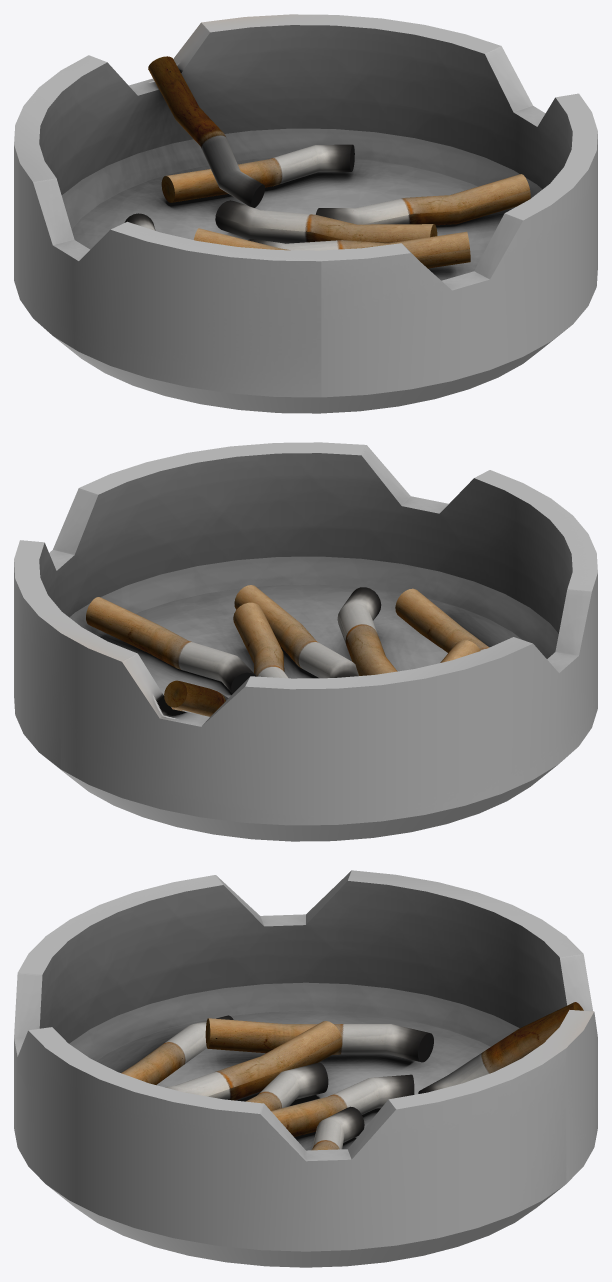
File: Ashtray.fbx
The picture shows the model from 3 angles, top to bottom: view 1: azimuth 30°, elevation 25°; view 2: azimuth 150°, elevation 25°; view 3: azimuth 270°, elevation 25°; orthographic projection.
Visible parts, largest first — view 1: ashtray; view 2: ashtray; view 3: ashtray.
Part boxes in pixels (<box>): ashtray: <box>14,14,597,413</box>; ashtray: <box>14,442,597,841</box>; ashtray: <box>14,870,597,1267</box>.
Bounding box in the file's own units: 0.2113 × 0.0664 × 0.2113.
Materials: 1 (1 with a texture image).
